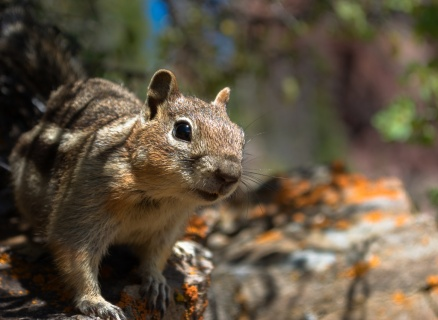Squirrel: (0, 1, 298, 319)
